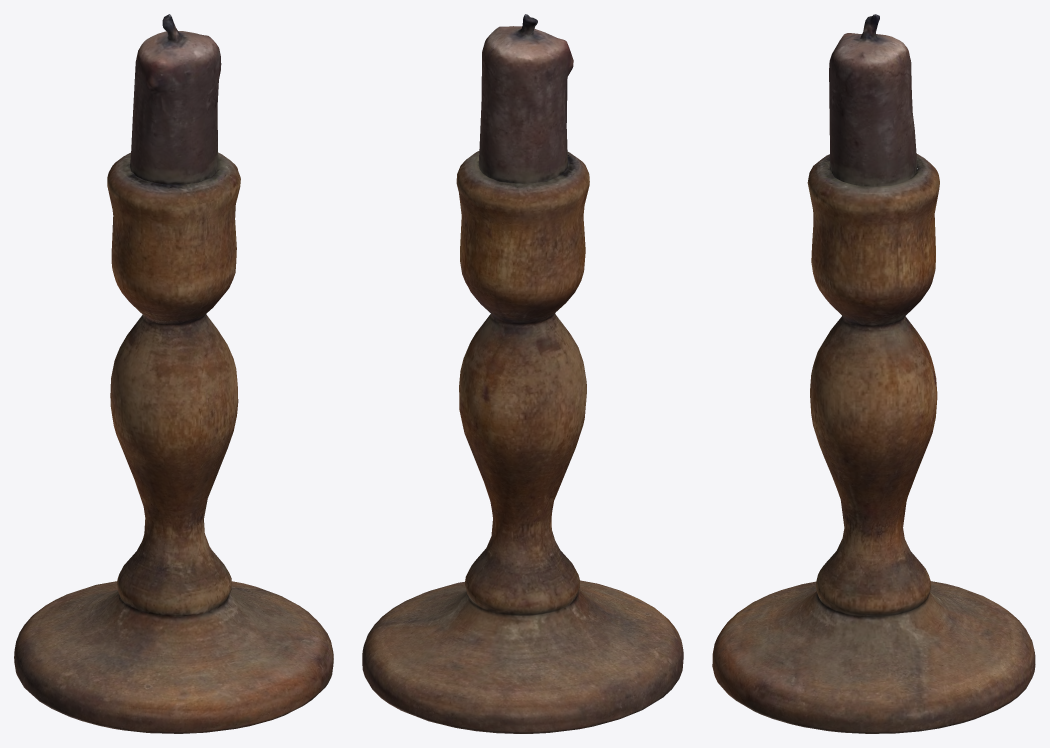
File: wooden_candlestick_tv.gltf
3 views of the same model, side by side, from view 1: azimuth 30°, elevation 25°; view 2: azimuth 150°, elevation 25°; view 3: azimuth 270°, elevation 25° (orthographic).
Parts seen in each view (by area): view 1: wooden_candlestick; view 2: wooden_candlestick; view 3: wooden_candlestick.
Part boxes in pixels (bbox=[...]): wooden_candlestick: bbox=[14, 14, 333, 733]; wooden_candlestick: bbox=[362, 14, 683, 733]; wooden_candlestick: bbox=[712, 14, 1035, 733].
Bounding box in the file's own units: 0.0972 × 0.2196 × 0.0986.
Materials: 1 (1 with a texture image).
